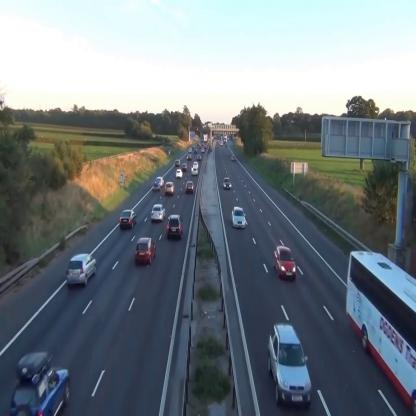car: (268, 323, 312, 408), (8, 365, 71, 416), (66, 252, 97, 289), (273, 246, 297, 280), (135, 237, 157, 264), (166, 214, 184, 239), (119, 209, 137, 228), (231, 206, 245, 229), (151, 204, 166, 222), (164, 181, 175, 196), (223, 176, 231, 190), (186, 181, 194, 192), (156, 176, 164, 186), (176, 170, 183, 178), (191, 167, 198, 175), (182, 162, 188, 171), (175, 160, 180, 166)
lorry: (347, 243, 416, 409)
